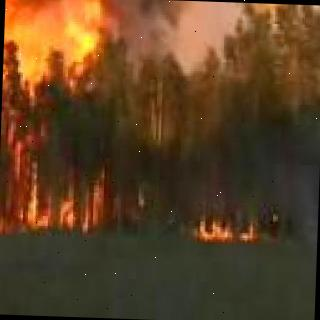fire: (0, 0, 117, 238), (191, 218, 260, 242)
